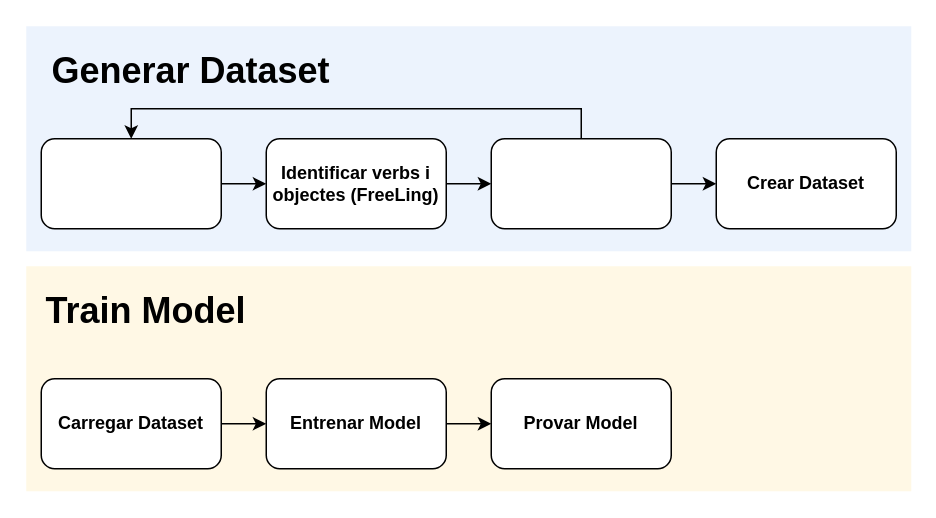
The diagram is 936 pixels wide and 518 high, and some of its shapes have lost their labels. Here are the shapes that lost their labels. From the top down, the box of each, then its label:
(40, 137, 221, 229): Parsejar BPMN s
(490, 137, 671, 229): Crear descriptions en llenguatge natural
